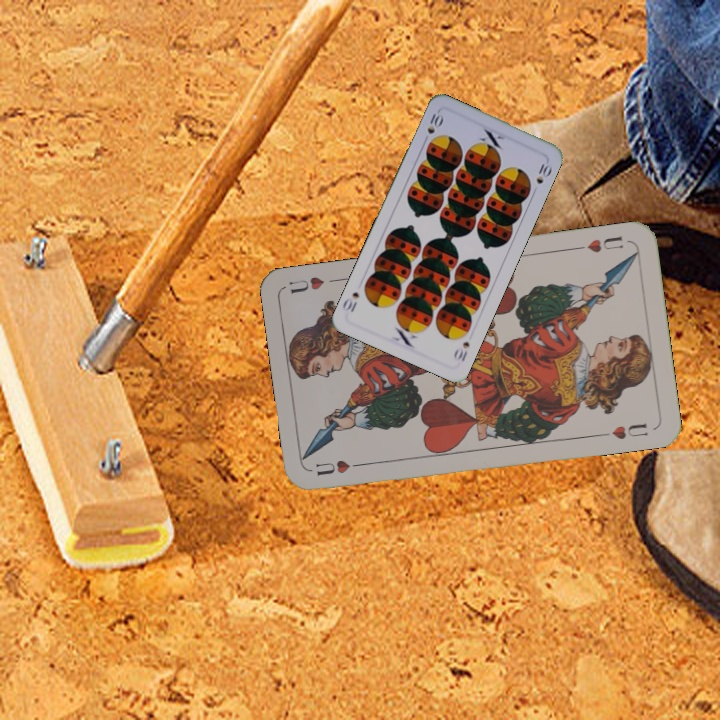HU: (311, 456, 368, 479), (572, 232, 626, 255)
S10: (423, 107, 445, 137), (450, 338, 472, 364)
